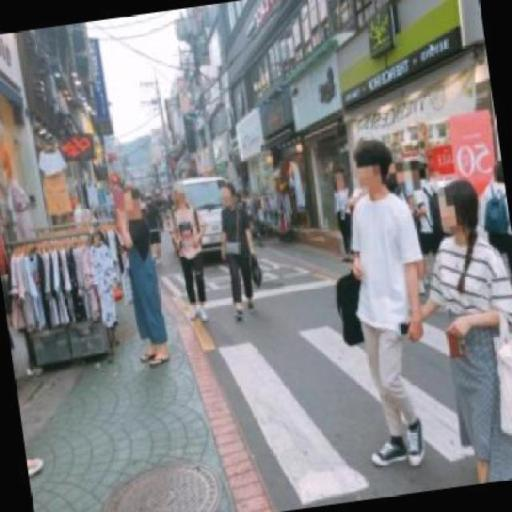pessoa: (330, 138, 426, 468), (423, 176, 510, 489), (114, 187, 171, 370), (167, 186, 218, 324), (213, 176, 259, 318)
